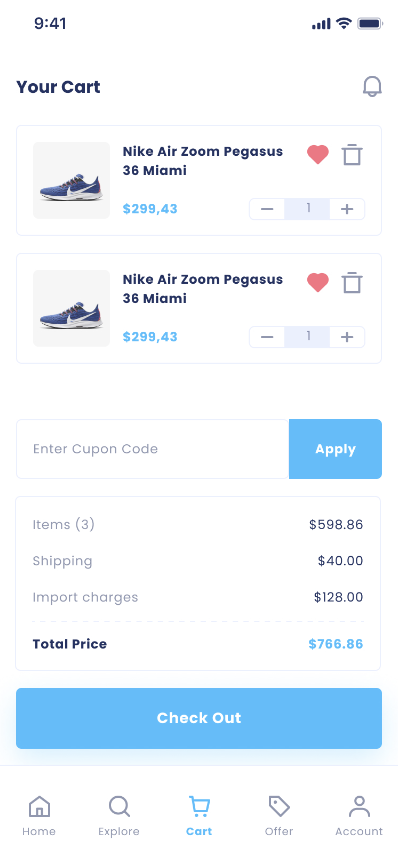Input: (12, 415, 385, 482)
